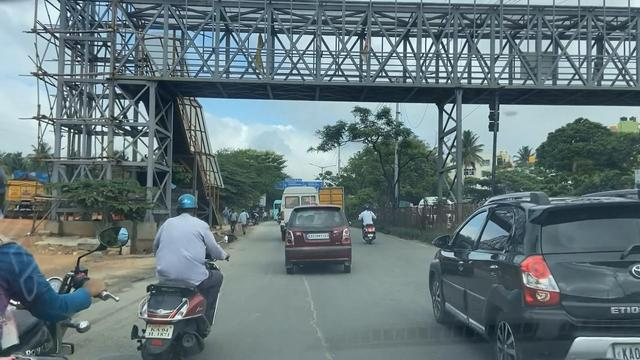LMV: (283, 206, 352, 269), (361, 205, 375, 241)
RoadDamages: (294, 273, 332, 356)
